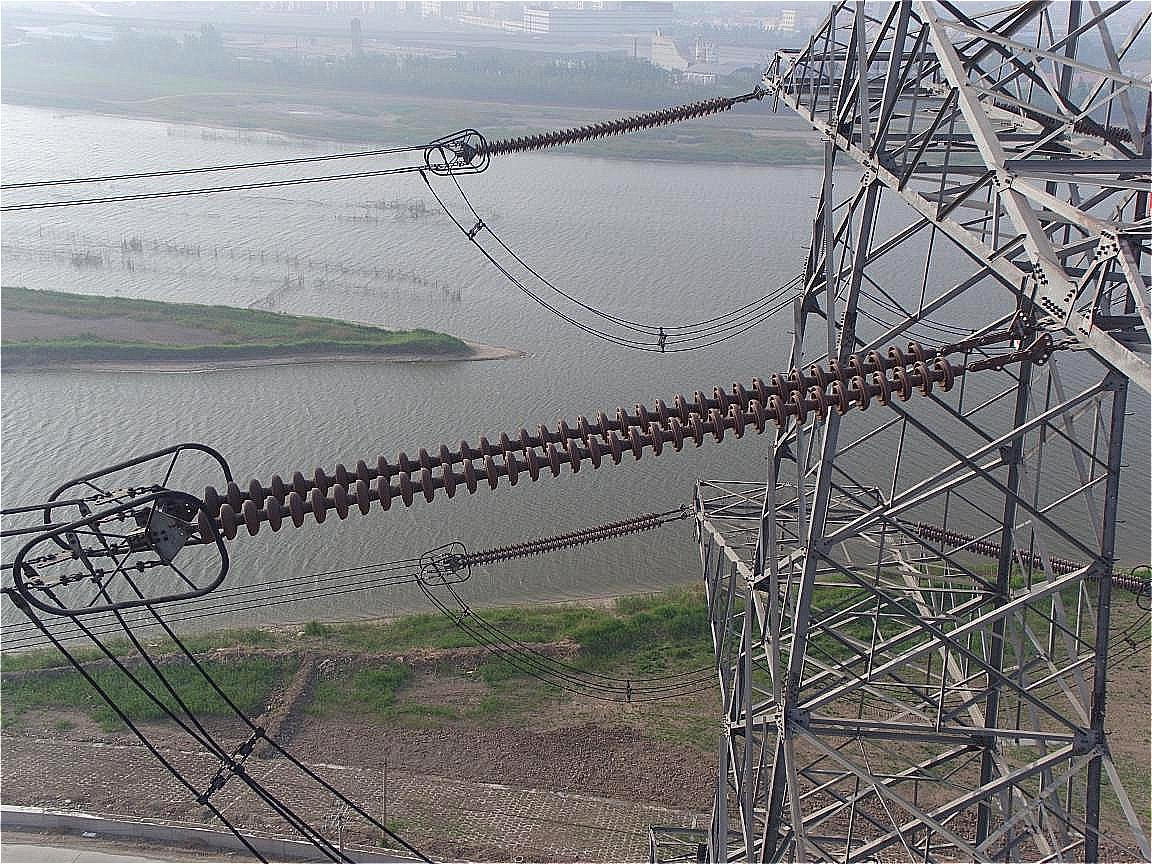insultor1: (179, 337, 969, 576)
insultor2: (451, 503, 679, 571)
